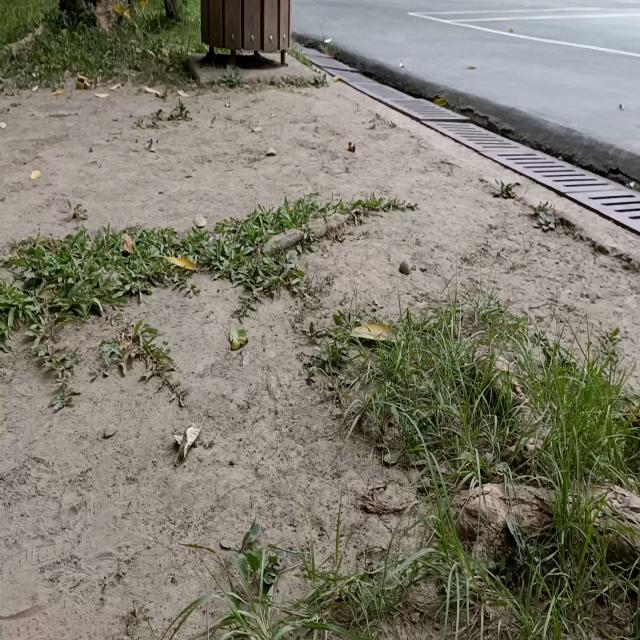grass: (298, 287, 640, 639), (0, 195, 399, 373)
white-sand: (0, 78, 640, 639)
